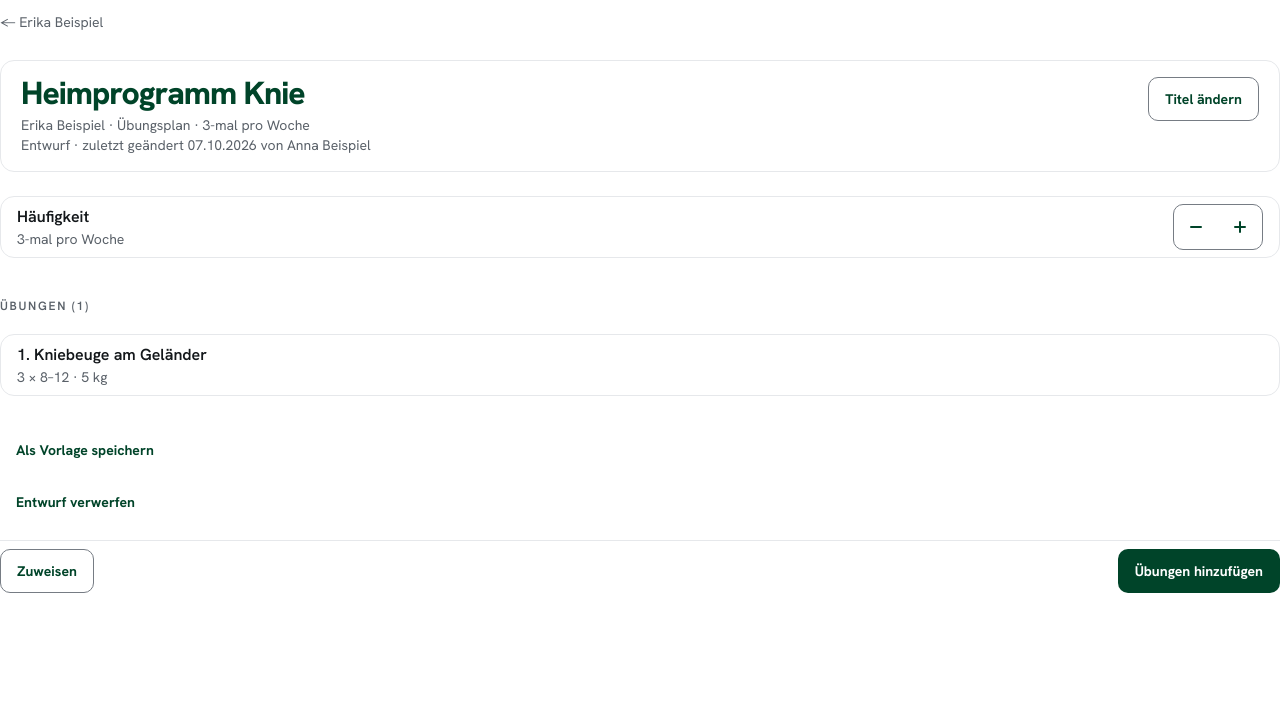
it: Planeditor: Entwurf als Arbeitsseite (UEB-004, Welle B) › fügt mehrere Übungen in einem Zug mit ihrer Standarddosierung hinzu
Click the button "Übungen hinzufügen": coordinates (1199, 571) [1118,549,1279,593]
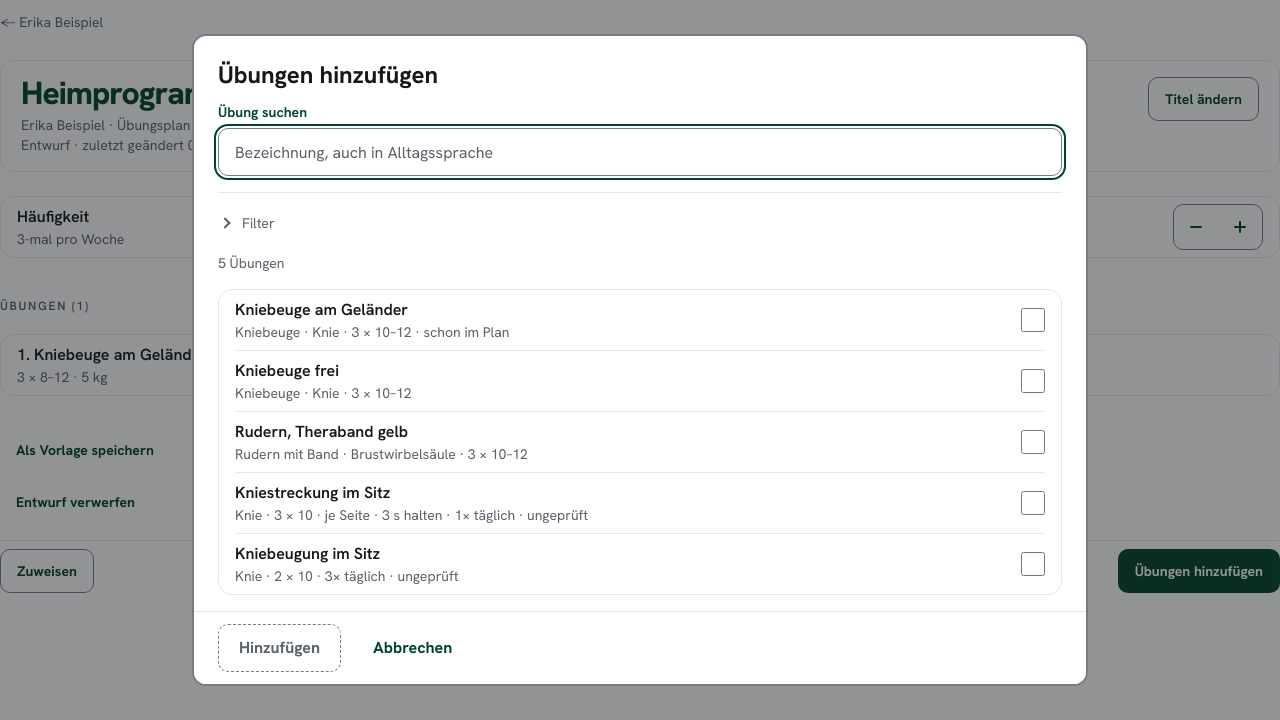
Check: the button "Hinzufügen" is disabled, box [218,624,341,672]
In the search field labelled "Übung suchen": coordinates (640, 152) [218,128,1062,176], type "sitz"
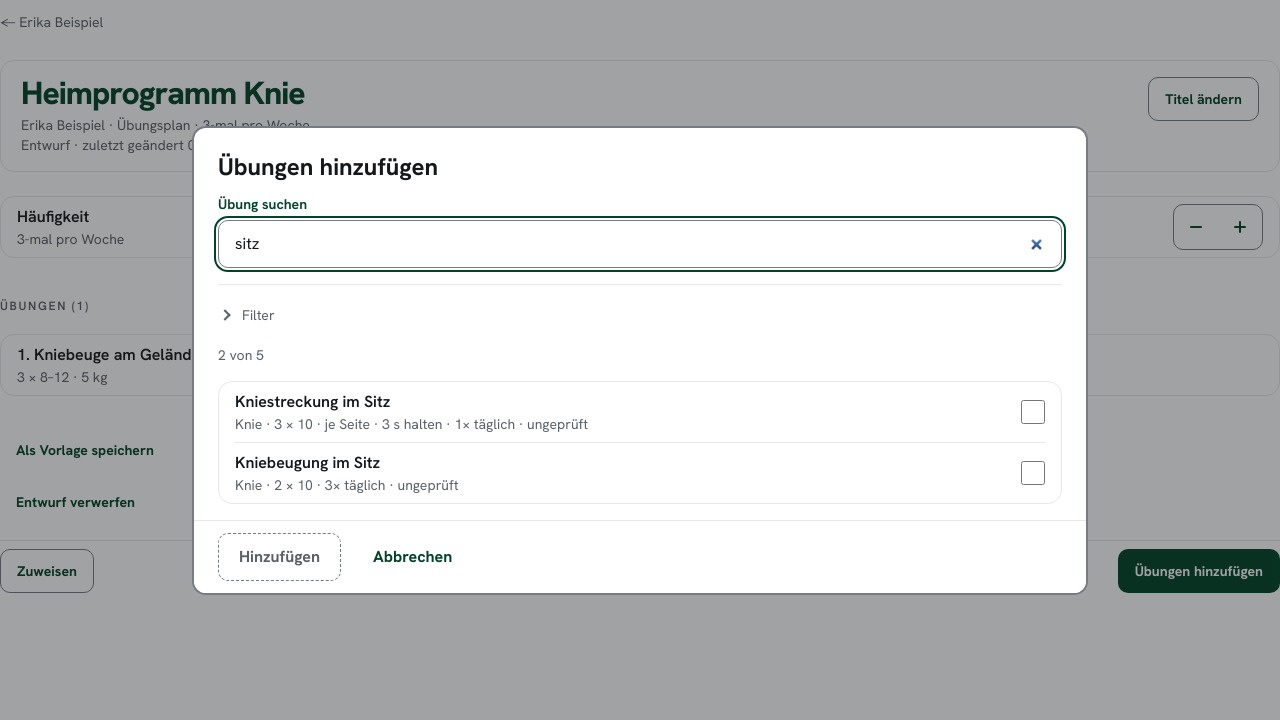
Click the checkbox labelled "Kniebeugung im Sitz Knie · 2 × 10 · 3× täglich · ungeprüft": coordinates (1033, 472) [1021,460,1045,484]
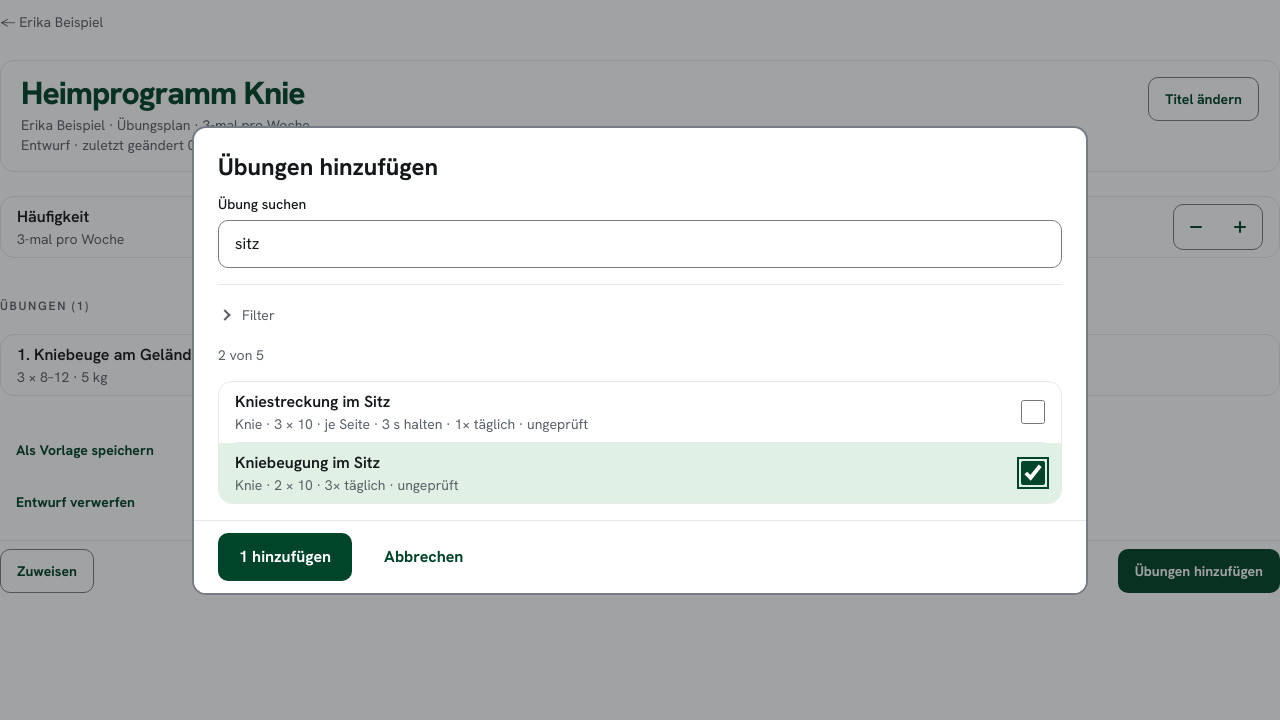
Click the checkbox labelled "Kniestreckung im Sitz": coordinates (1033, 412) [1021,400,1045,424]
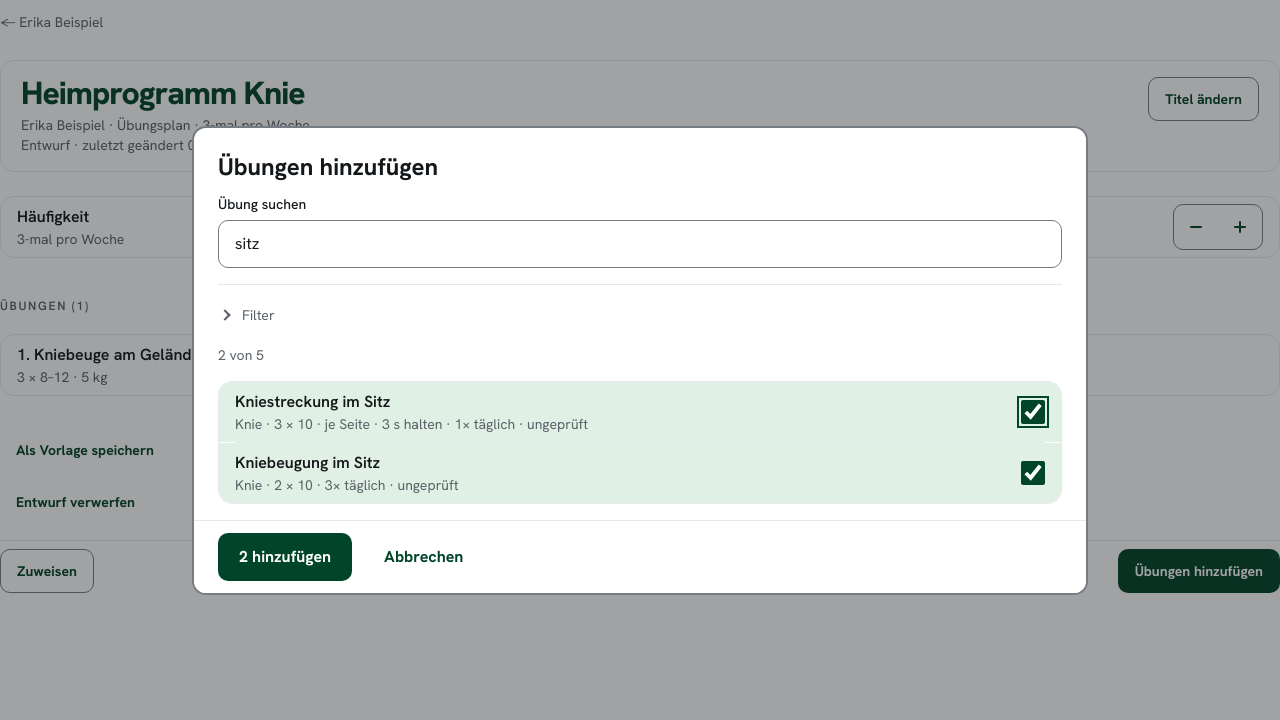
Click the button "2 hinzufügen": coordinates (285, 556) [218,532,352,580]
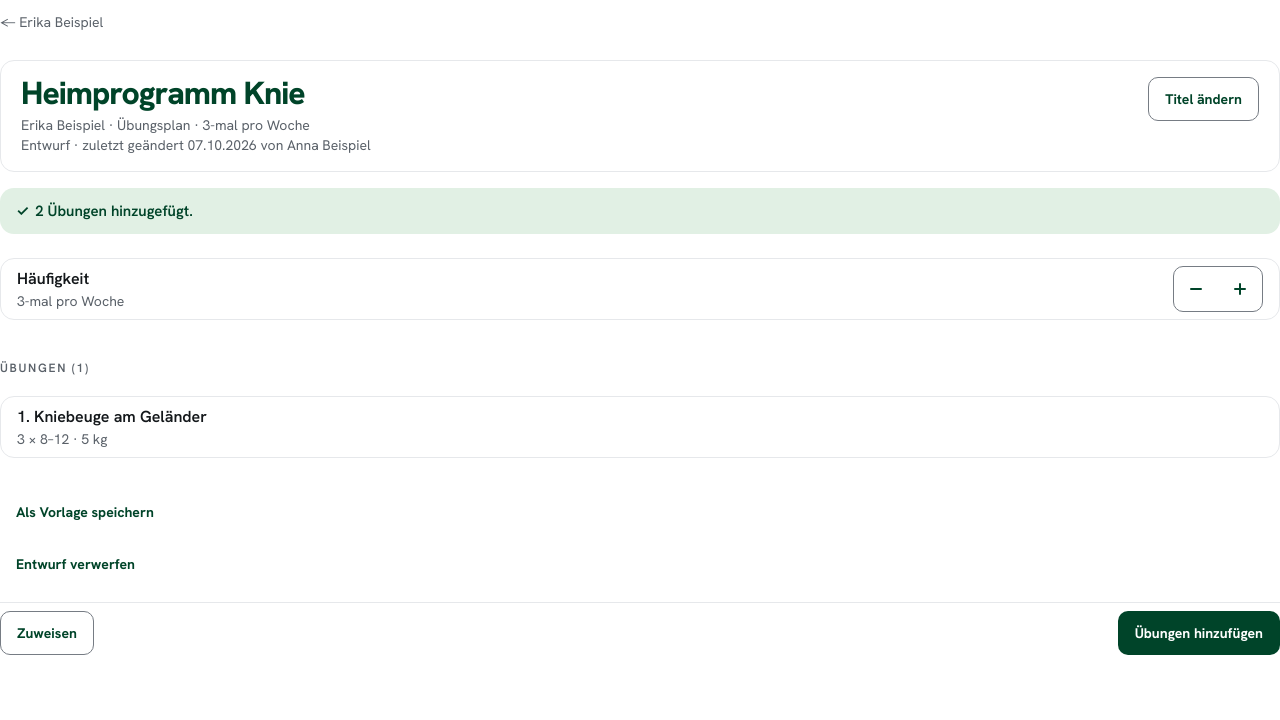
Check: the text "2 Übungen hinzugefügt." is shown, box [35,201,193,221]
Check: the dialog is gone
